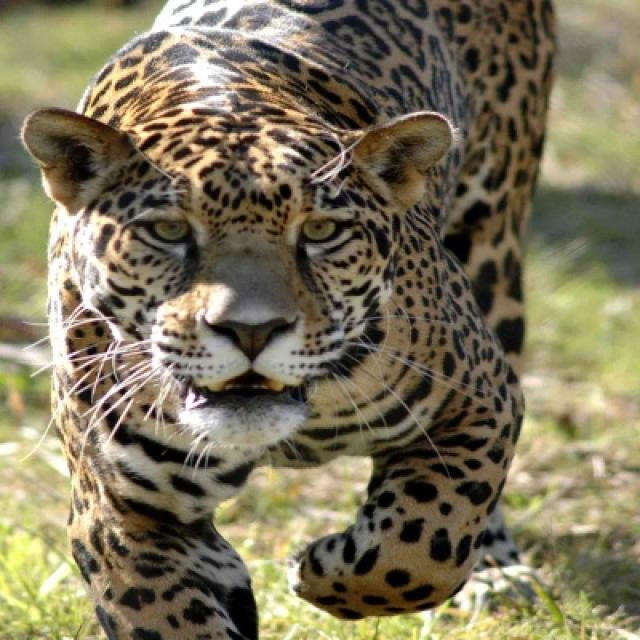Jaguar: (19, 0, 560, 638)
